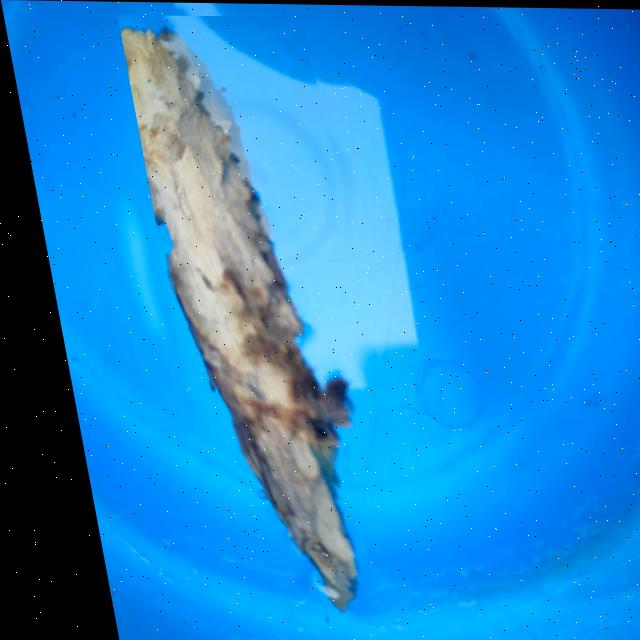litter: (116, 14, 414, 634)
